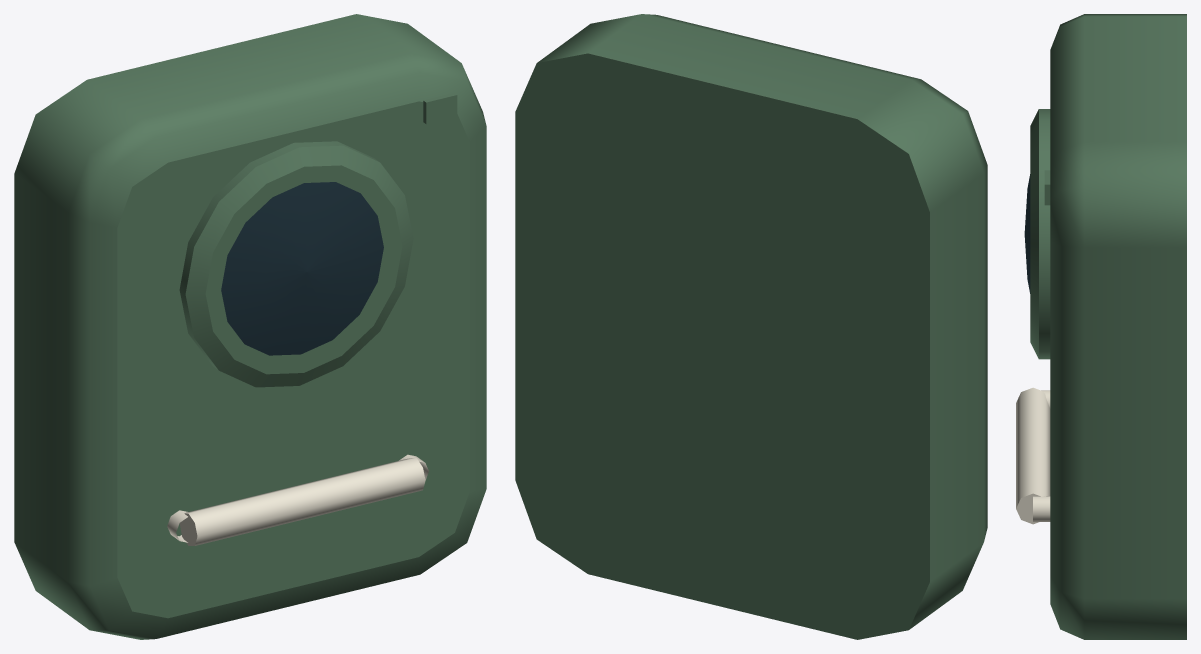
The model's file is t10_water.obj.
The picture shows the model from 3 angles, left to right: view 1: azimuth 30°, elevation 25°; view 2: azimuth 150°, elevation 25°; view 3: azimuth 270°, elevation 25°; orthographic projection. The views are drawn at different scales.
Parts seen in each view (by area): view 1: t10_water; view 2: t10_water; view 3: t10_water.
Part boxes in pixels (box(x1,y1,x2,y2)): t10_water: box(14, 14, 486, 639); t10_water: box(515, 14, 987, 639); t10_water: box(1016, 14, 1186, 639).
Size of the model in its own units: 0.8 by 0.96 by 0.3.
